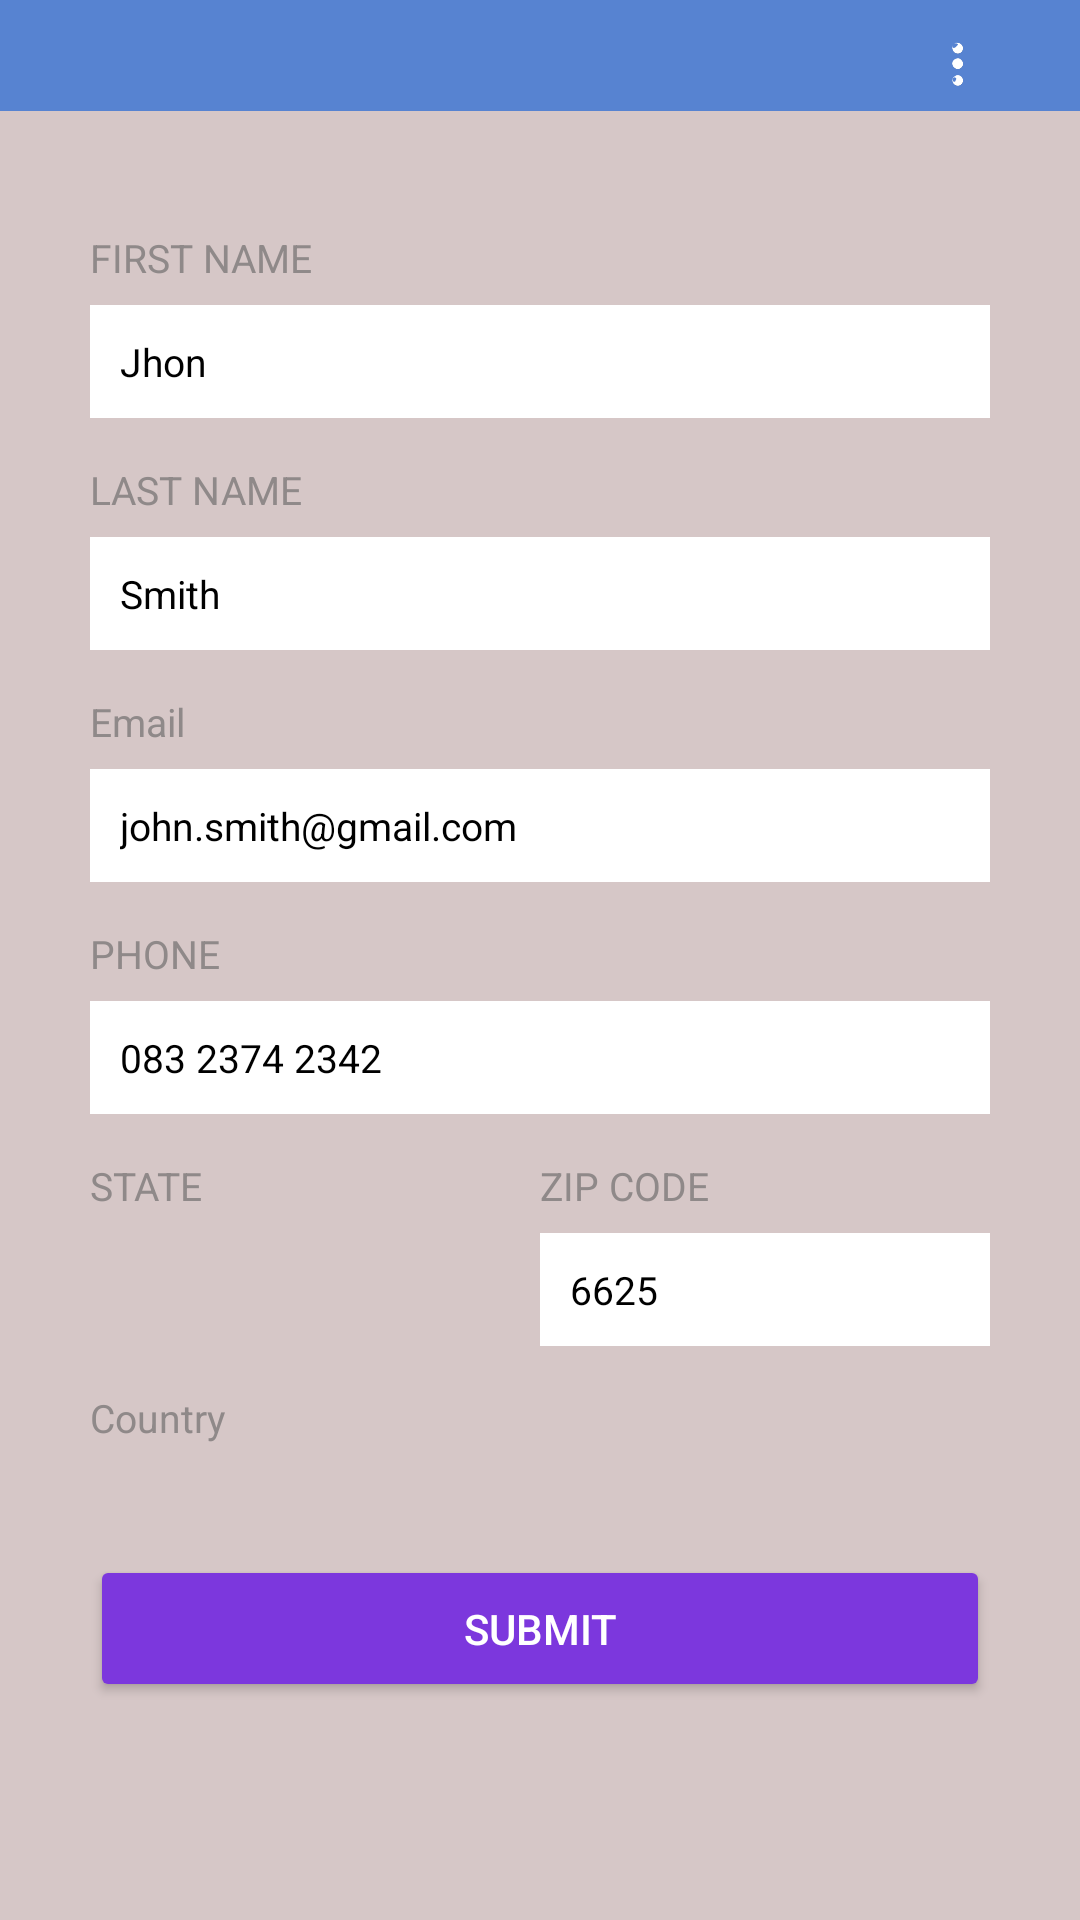

Icon click points for this 1080 × 1920 phone screenshot, format (x=x, y=y):
three dots: (x=957, y=64)
